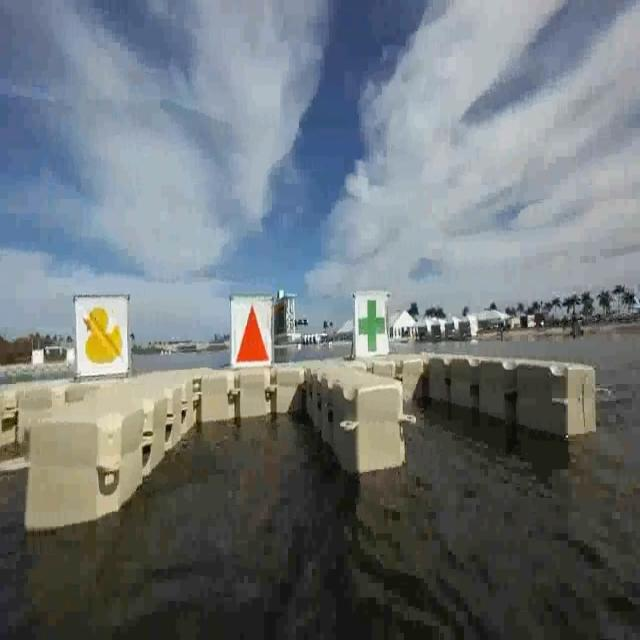blue-cross: (355, 301, 387, 357)
red-dot: (231, 301, 272, 368)
yellow-duck: (83, 304, 123, 366)
